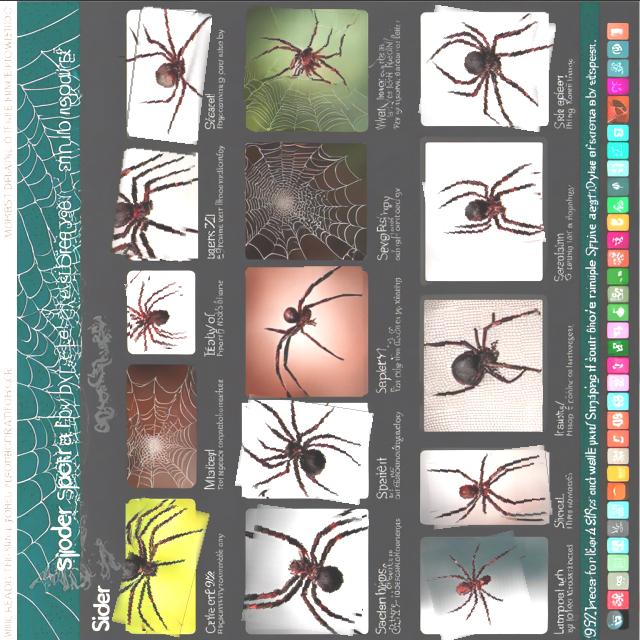spider: (117, 6, 205, 260), (245, 266, 364, 400), (422, 8, 552, 126), (246, 506, 366, 632), (239, 396, 371, 499), (425, 306, 542, 408), (245, 6, 358, 106), (119, 499, 203, 633), (425, 534, 531, 636), (425, 167, 543, 256), (428, 448, 552, 526), (128, 276, 186, 350)
